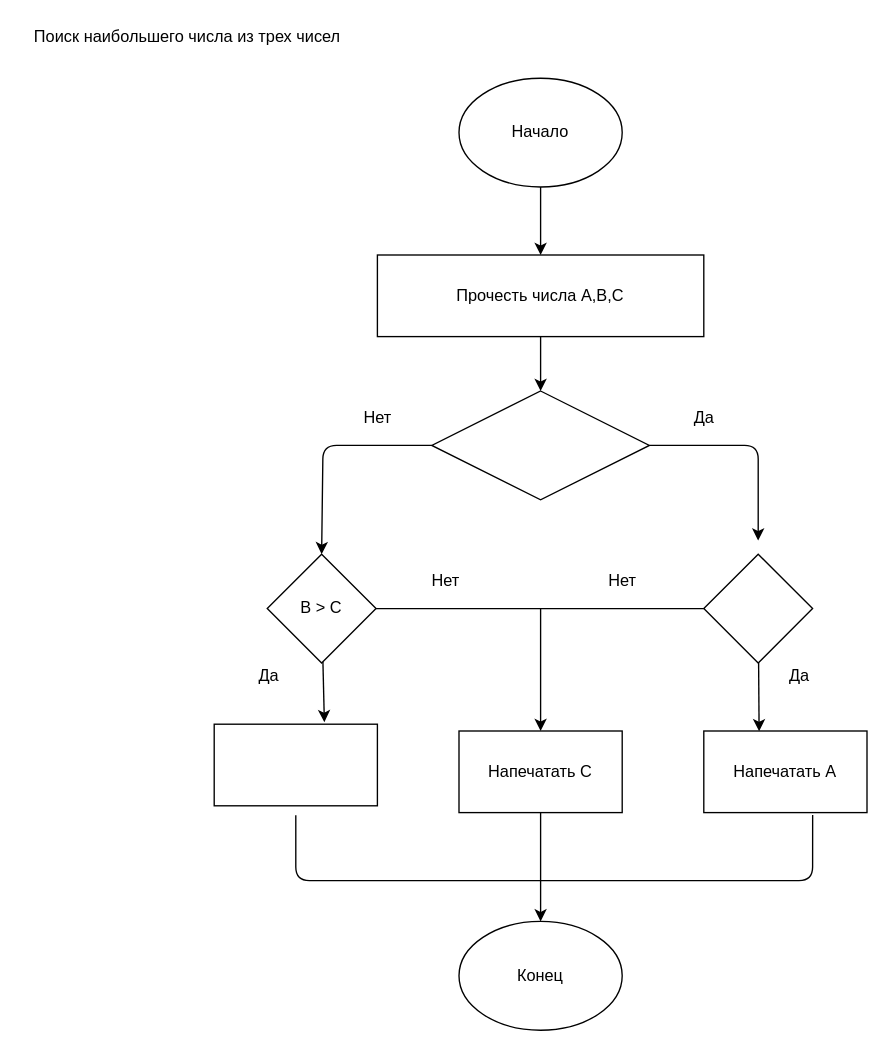
This 891x1054 diagram has some shape labels left out. Here are the shapes that lost their labels. From the top down, the box of each, then its label:
(430, 390, 649, 500): A > B
(702, 553, 813, 663): A > C
(213, 723, 377, 806): Напечатать В
